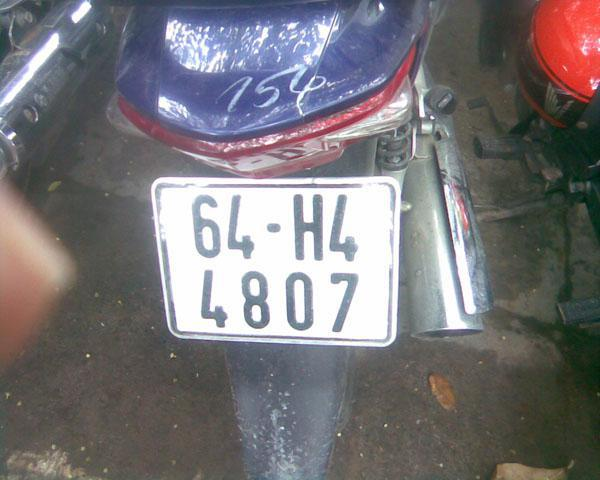License_Plate: (152, 174, 402, 347)
